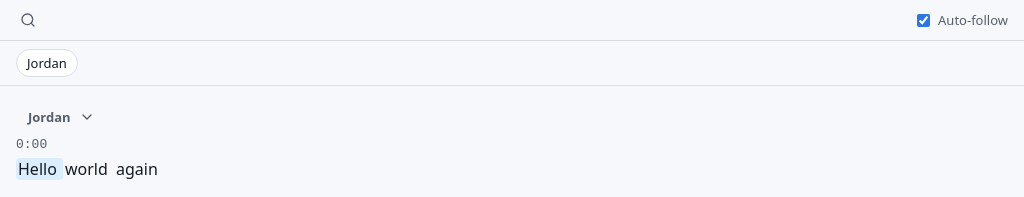
it: TranscriptViewer › clears the selection
Press the mouse on the text "Hello" at {"x": 40, "y": 169}, box [16,158,63,180]
Hover over the text "world" at {"x": 86, "y": 169}, box [65,158,108,180]
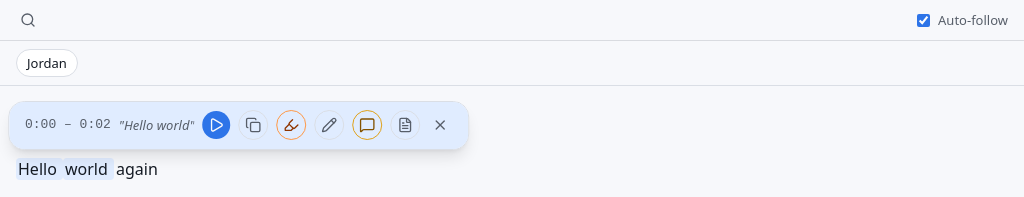
Result: the text "\"Hello world\"" is shown at [119,116,194,134]
Click the button named "Clear selection" at {"x": 441, "y": 125}, box [429,113,453,137]
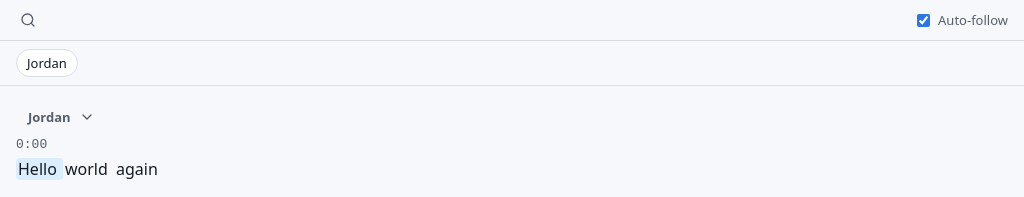
Result: the text "\"Hello world\"" is gone
